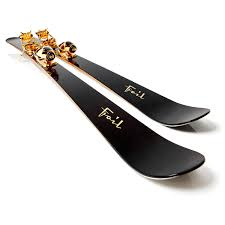skis: (7, 36, 212, 180)
